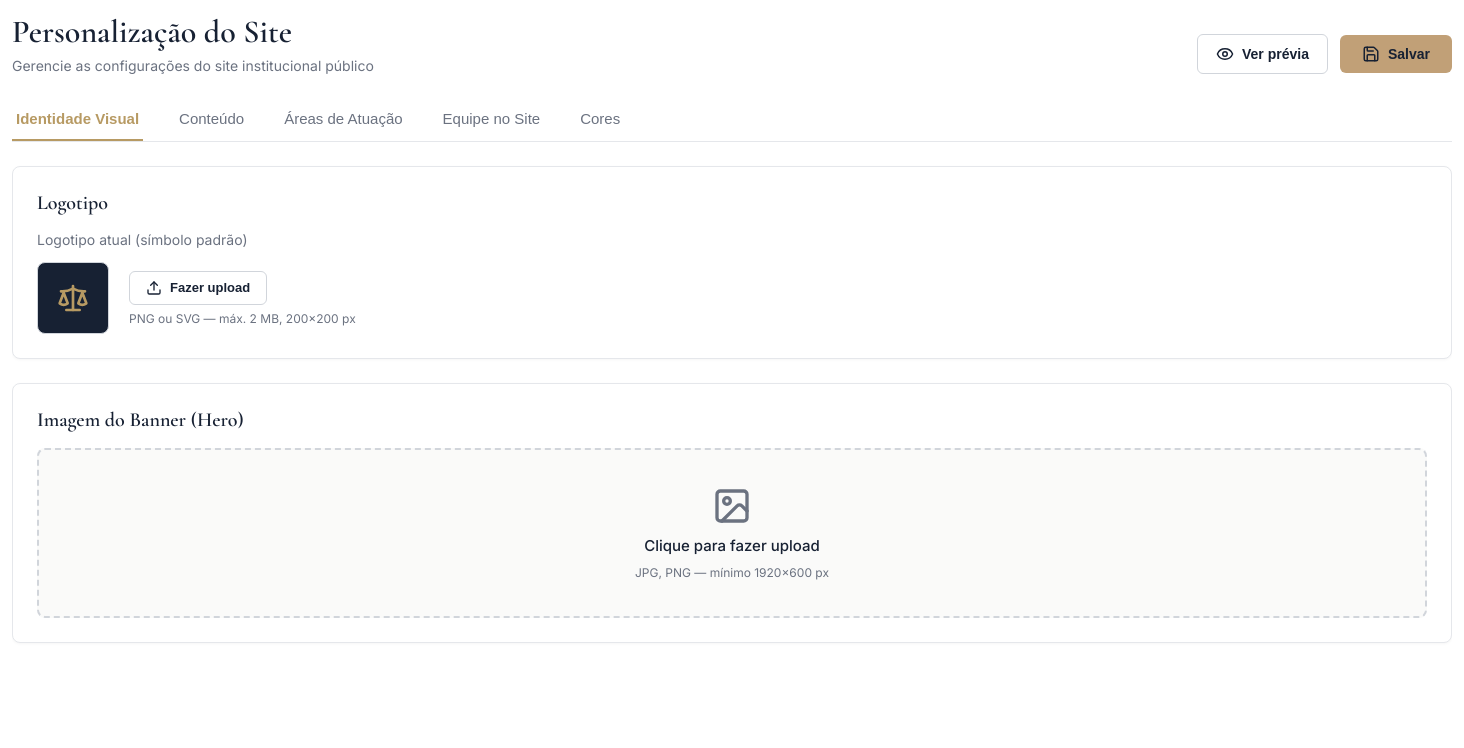
Scenario: Integração: Módulo de Personalização do Site › permite navegar entre as 5 abas e interagir com os formulários
The image size is (1464, 748).
Expected: the heading "Logotipo" is shown, [37,191,108,215]
Expected: the heading "Imagem do Banner (Hero)" is shown, [37,408,244,432]
Click the tab "Conteúdo".
click(212, 120)  # box [175,98,248,141]
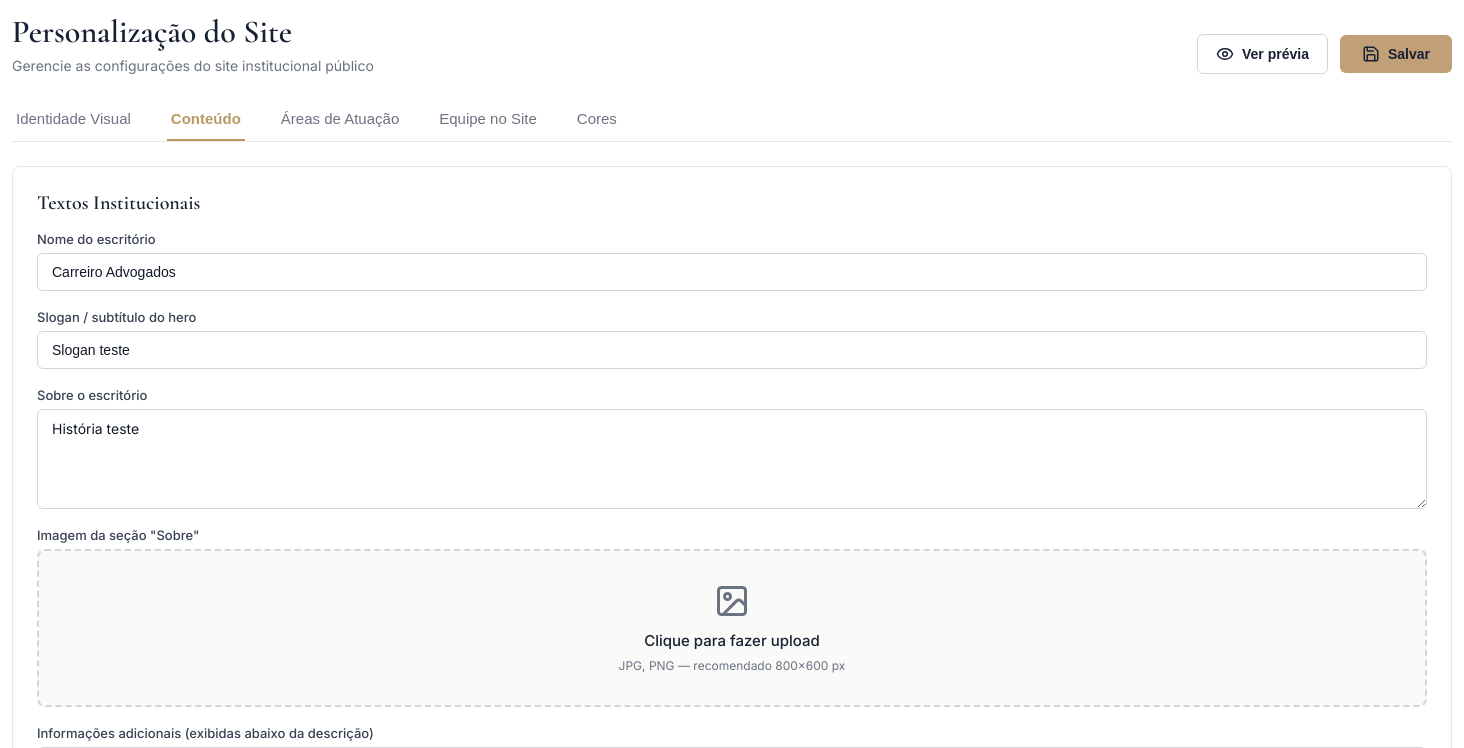
Expected: the heading "Textos Institucionais" is shown, [37,191,200,215]
Expected: the field labelled "Nome do escritório" holds "Carreiro Advogados", [37,253,1427,291]
Click the tab "Áreas de Atuação".
click(340, 120)  # box [277,98,403,141]
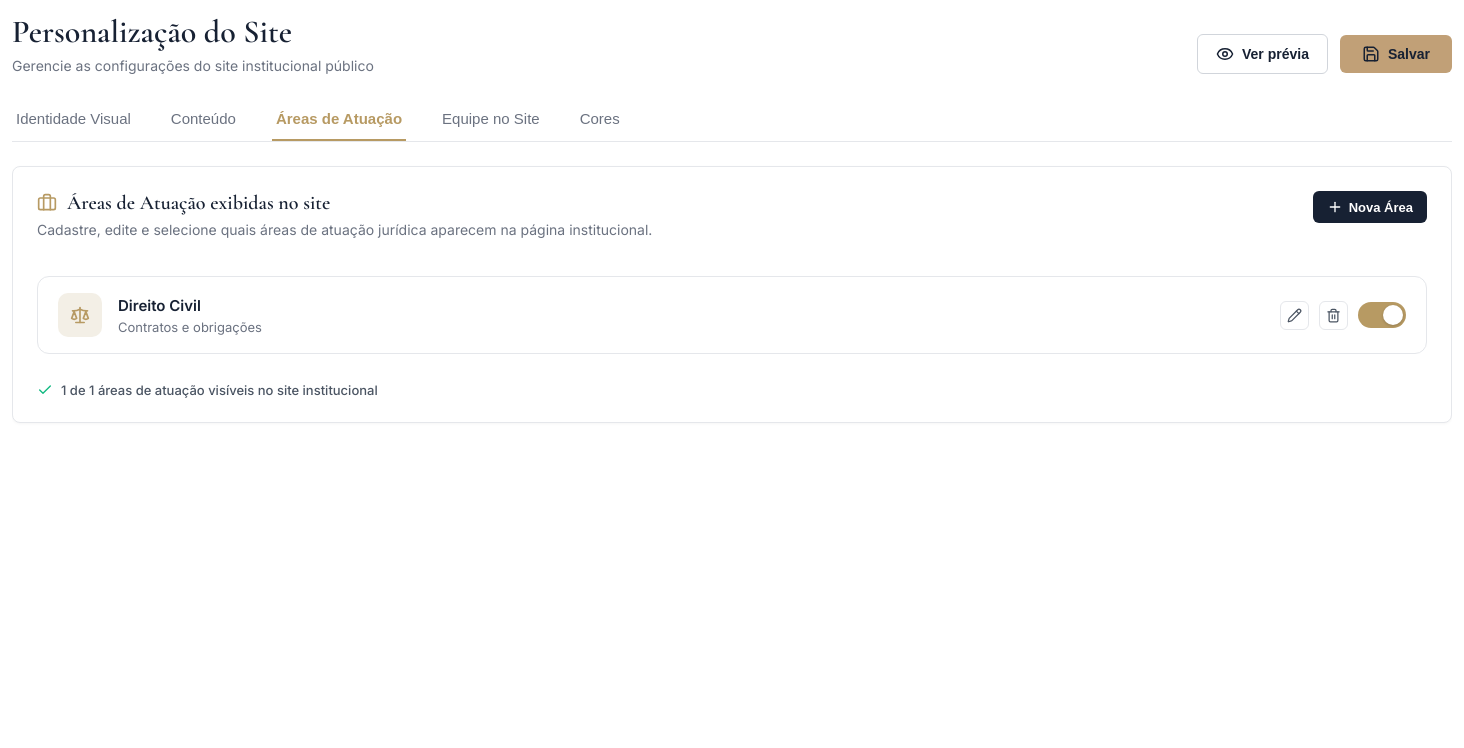
Expected: the heading "Áreas de Atuação exibidas no site" is shown, [67,191,330,215]
Expected: the text "Direito Civil" is shown, [118,296,201,314]
Click the tab "Equipe no Site".
click(491, 120)  # box [438,98,544,141]
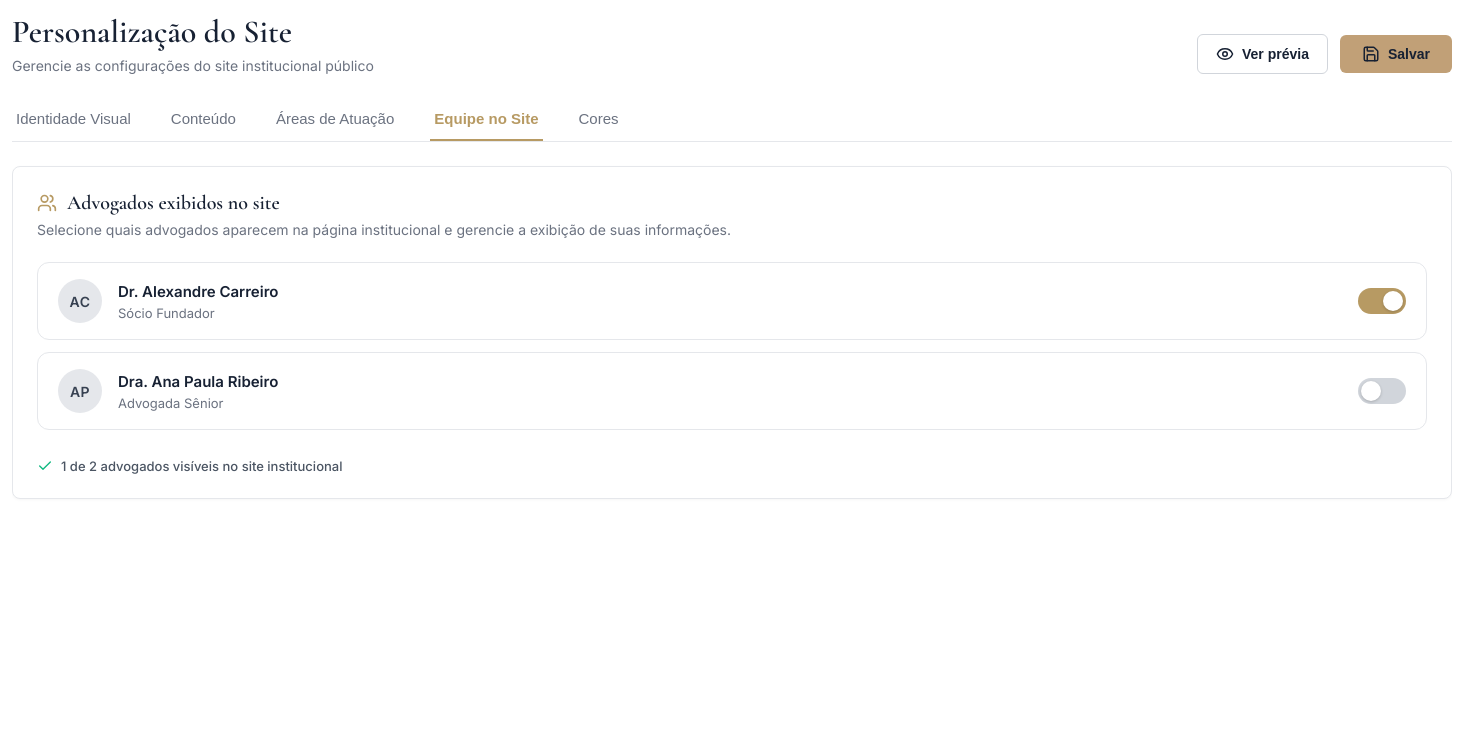
Expected: the heading "Advogados exibidos no site" is shown, [67,191,280,215]
Expected: the text "Dr. Alexandre Carreiro" is shown, [118,282,278,300]
Click the tab "Cores".
click(598, 120)  # box [574,98,622,141]
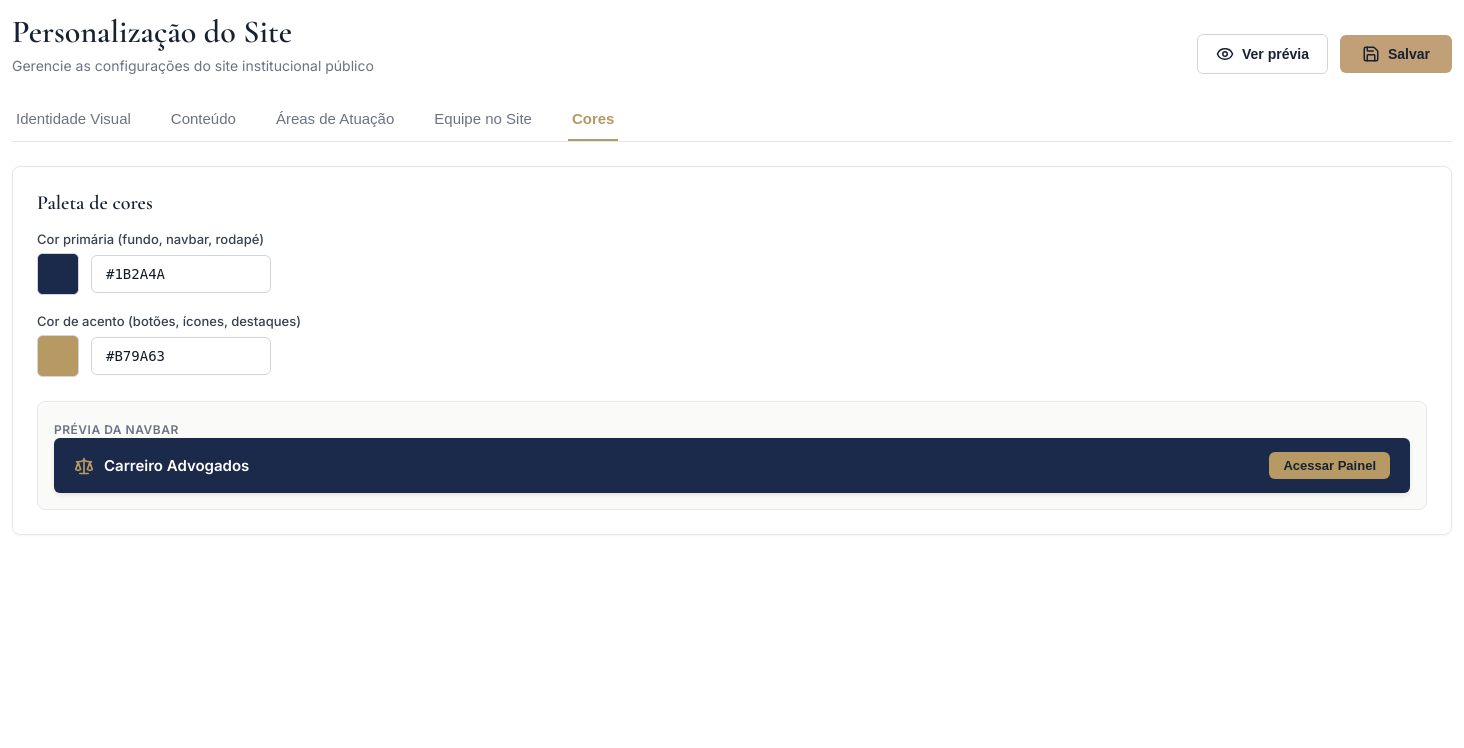
Expected: the heading "Paleta de cores" is shown, [37,191,153,215]
Expected: the text "Prévia da navbar" is shown, [54,422,179,437]
Click the tab "Identidade Visual".
click(73, 120)  # box [12,98,135,141]
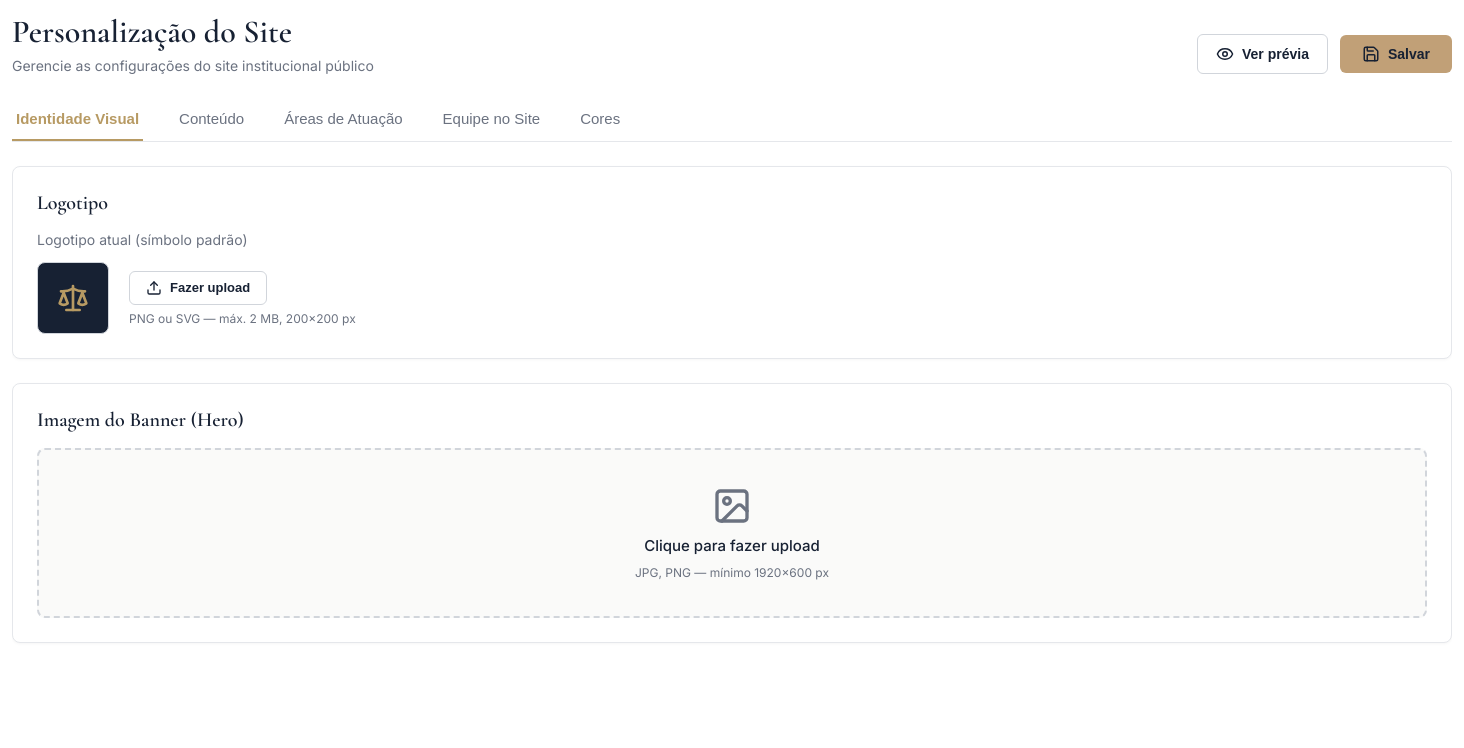
Expected: the heading "Logotipo" is shown, [37,191,108,215]
